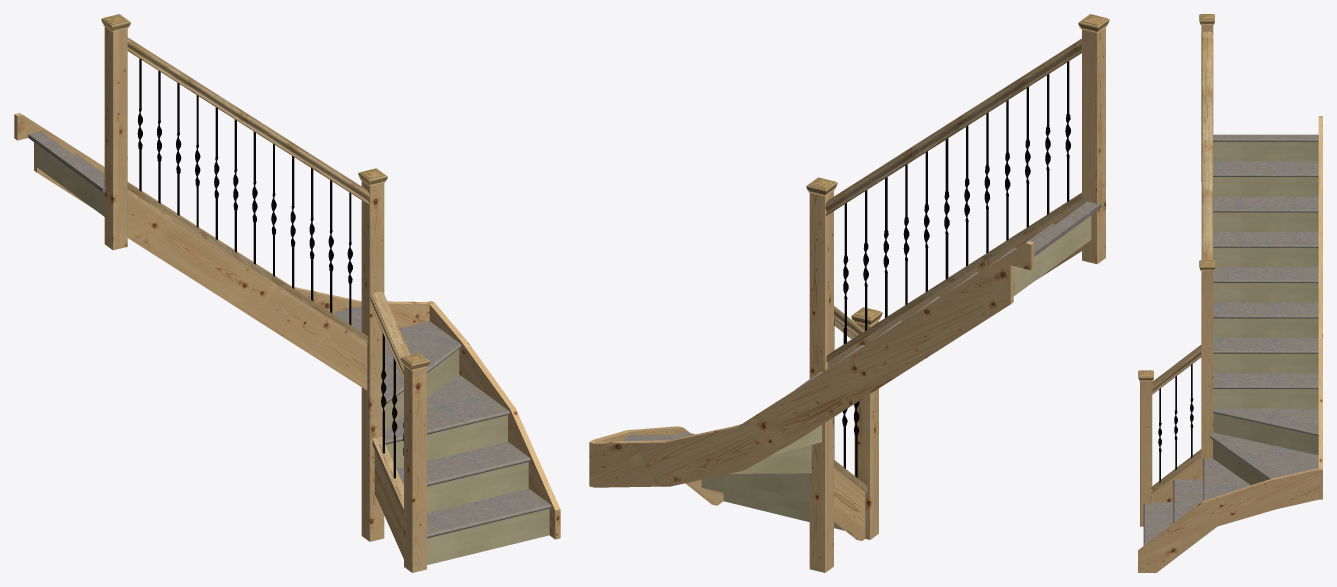
File: Staircase.glb
3 views of the same model, side by side, from view 1: azimuth 30°, elevation 25°; view 2: azimuth 150°, elevation 25°; view 3: azimuth 270°, elevation 25° (orthographic). The views are drawn at different scales.
Parts seen in each view (by area): view 1: _x0023_STRINGtk-whitewood.jpg1111, _x0023_POSTtk-whitewood.jpg1111, _x0023_TREADNew_x0020_MDF.jpg1111, _x0023_RISERBirch.jpg1111, _x0023_HANDRAILbig-oaktex.jpg1111, _x0023_BOTTOMRAILbig-oaktex.jpg1111, _x0023_POSTbig-oaktex.jpg1111; view 2: _x0023_STRINGtk-whitewood.jpg1111, _x0023_POSTtk-whitewood.jpg1111, _x0023_RISERBirch.jpg1111, _x0023_HANDRAILbig-oaktex.jpg1111, _x0023_BOTTOMRAILbig-oaktex.jpg1111, _x0023_TREADNew_x0020_MDF.jpg1111, _x0023_POSTbig-oaktex.jpg1111; view 3: _x0023_TREADNew_x0020_MDF.jpg1111, _x0023_RISERBirch.jpg1111, _x0023_STRINGtk-whitewood.jpg1111, _x0023_POSTtk-whitewood.jpg1111, _x0023_HANDRAILbig-oaktex.jpg1111, _x0023_POSTbig-oaktex.jpg1111, _x0023_BOTTOMRAILbig-oaktex.jpg1111.
Part boxes in pixels (x1,y1,x2,y2): _x0023_STRINGtk-whitewood.jpg1111: (14,113,560,558); _x0023_POSTtk-whitewood.jpg1111: (104,27,426,572); _x0023_TREADNew_x0020_MDF.jpg1111: (28,131,551,538); _x0023_RISERBirch.jpg1111: (36,144,549,564); _x0023_HANDRAILbig-oaktex.jpg1111: (127,37,410,379); _x0023_BOTTOMRAILbig-oaktex.jpg1111: (127,183,403,515); _x0023_POSTbig-oaktex.jpg1111: (101,14,430,370); _x0023_STRINGtk-whitewood.jpg1111: (589,200,1081,540); _x0023_POSTtk-whitewood.jpg1111: (809,27,1105,572); _x0023_RISERBirch.jpg1111: (701,215,1091,530); _x0023_HANDRAILbig-oaktex.jpg1111: (825,38,1081,339); _x0023_BOTTOMRAILbig-oaktex.jpg1111: (826,192,1081,492); _x0023_TREADNew_x0020_MDF.jpg1111: (623,201,1101,440); _x0023_POSTbig-oaktex.jpg1111: (806,14,1109,326); _x0023_TREADNew_x0020_MDF.jpg1111: (1143,134,1318,545); _x0023_RISERBirch.jpg1111: (1213,141,1318,485); _x0023_STRINGtk-whitewood.jpg1111: (1138,116,1322,572); _x0023_POSTtk-whitewood.jpg1111: (1140,25,1213,526); _x0023_HANDRAILbig-oaktex.jpg1111: (1152,31,1212,394); _x0023_POSTbig-oaktex.jpg1111: (1138,14,1214,381); _x0023_BOTTOMRAILbig-oaktex.jpg1111: (1152,449,1201,493).
Bounding box in the file's own units: 2.56 × 3.41 × 1.37.
8 materials, 7 textured.
